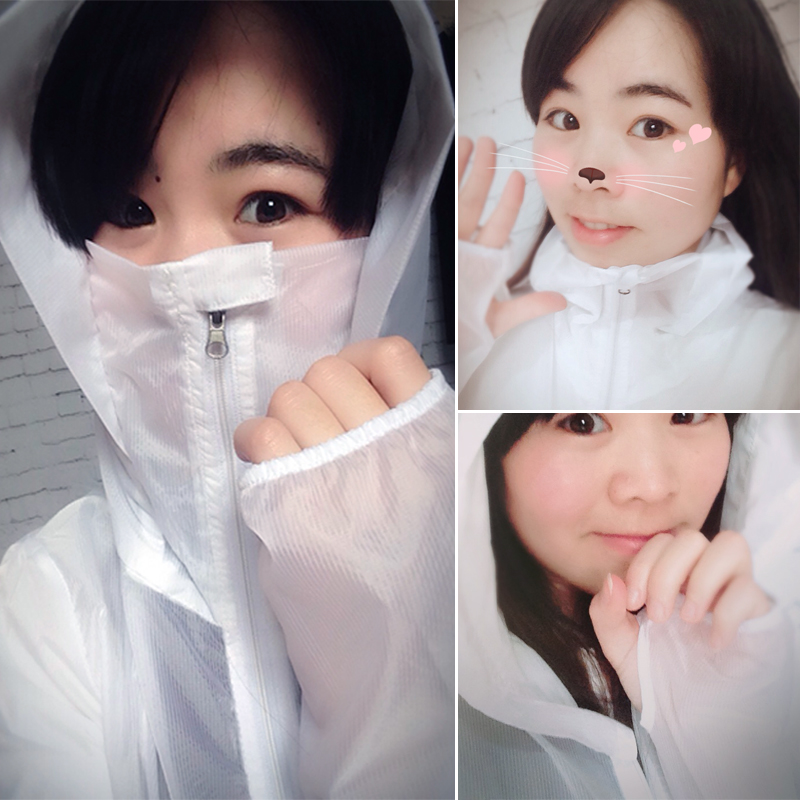face: (503, 340, 731, 596), (532, 1, 723, 277)
face_mask: (73, 40, 355, 457)
